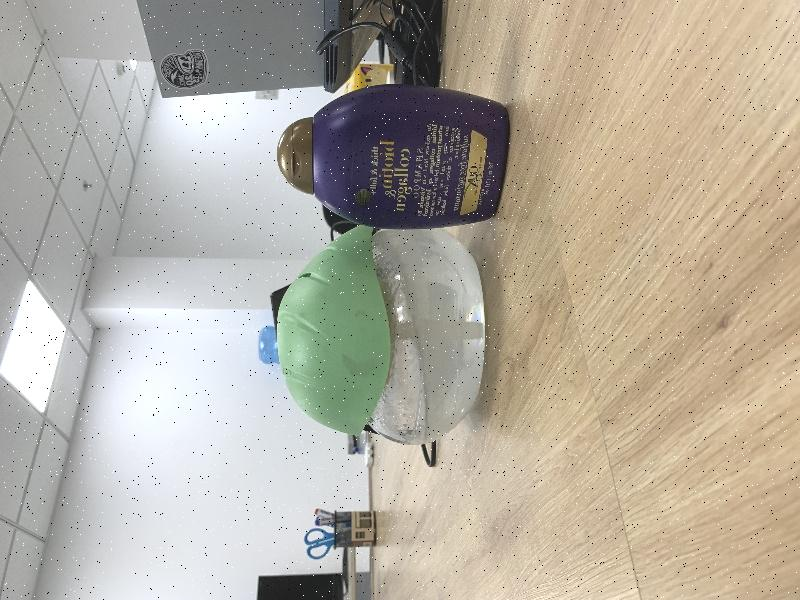BiotinCollagen_Shampoo: (277, 84, 510, 230)
